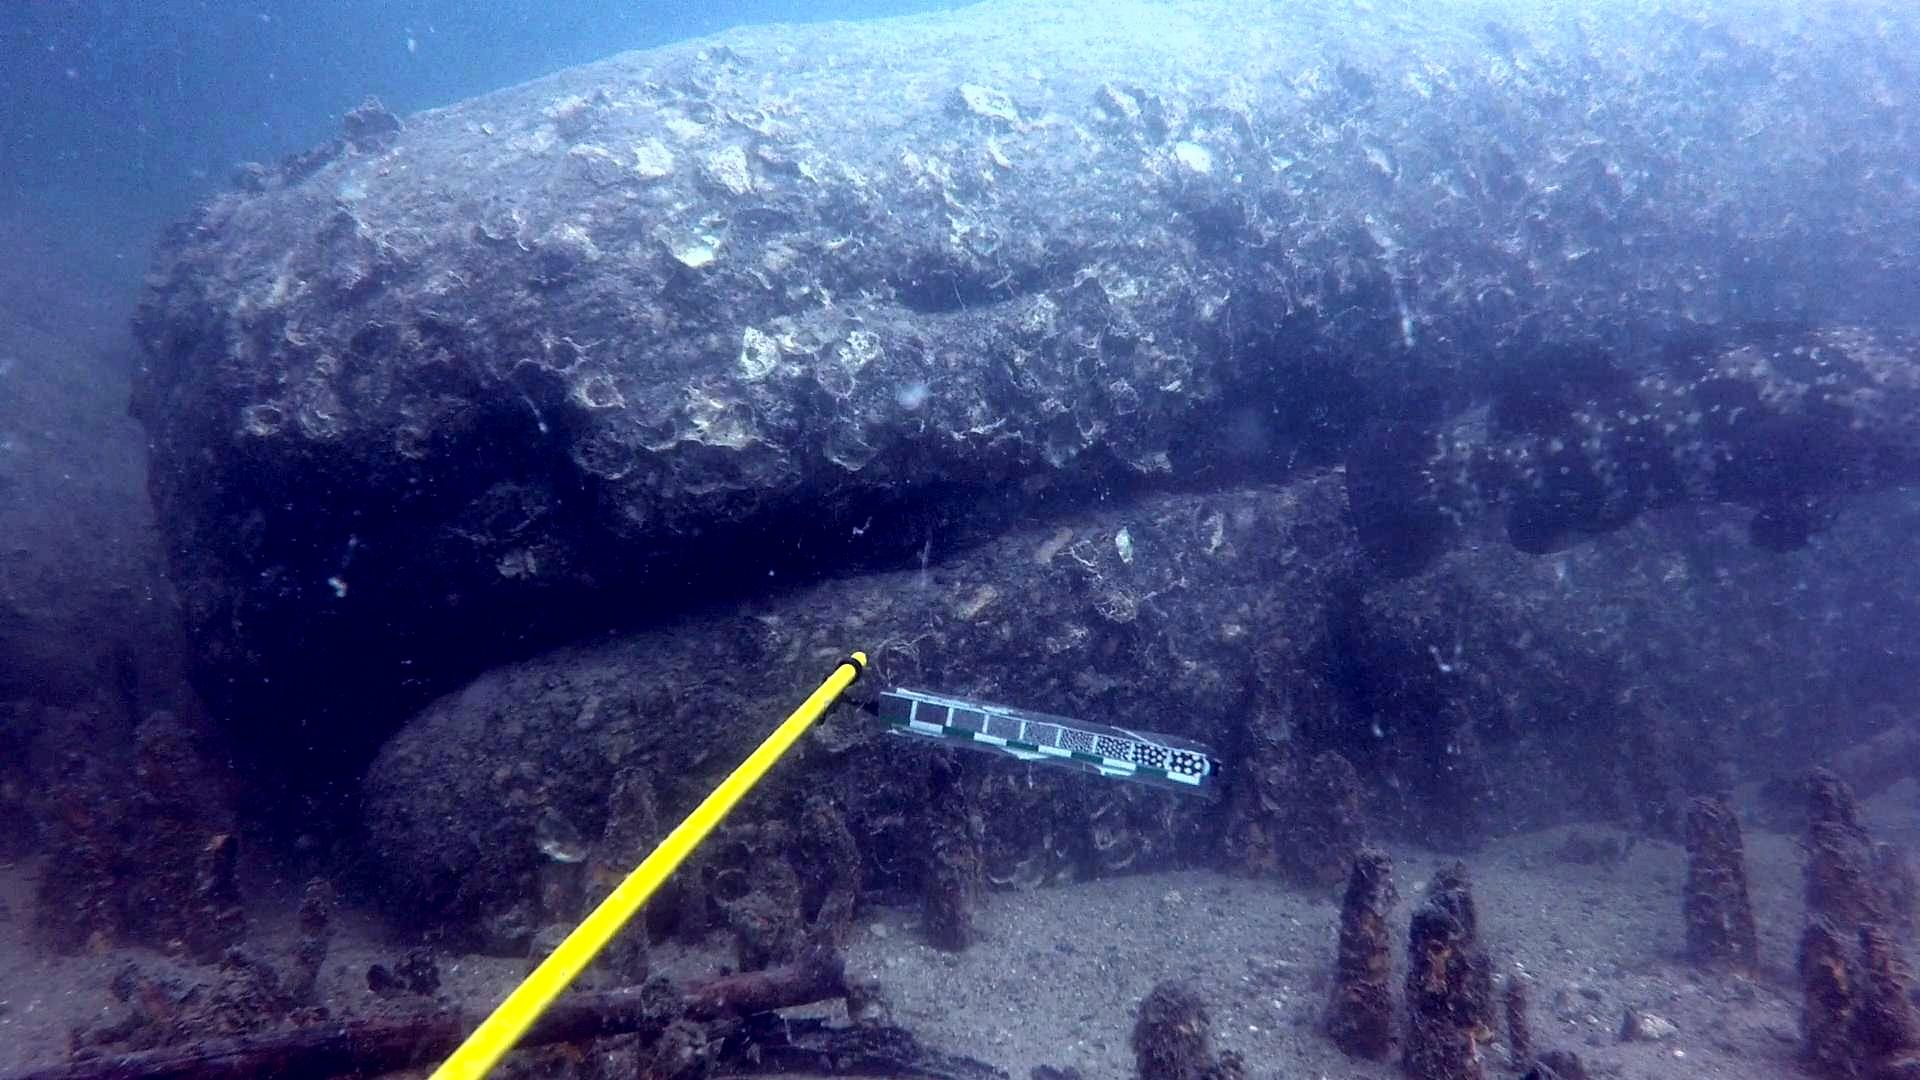epinephelus: (1340, 307, 1920, 584)
